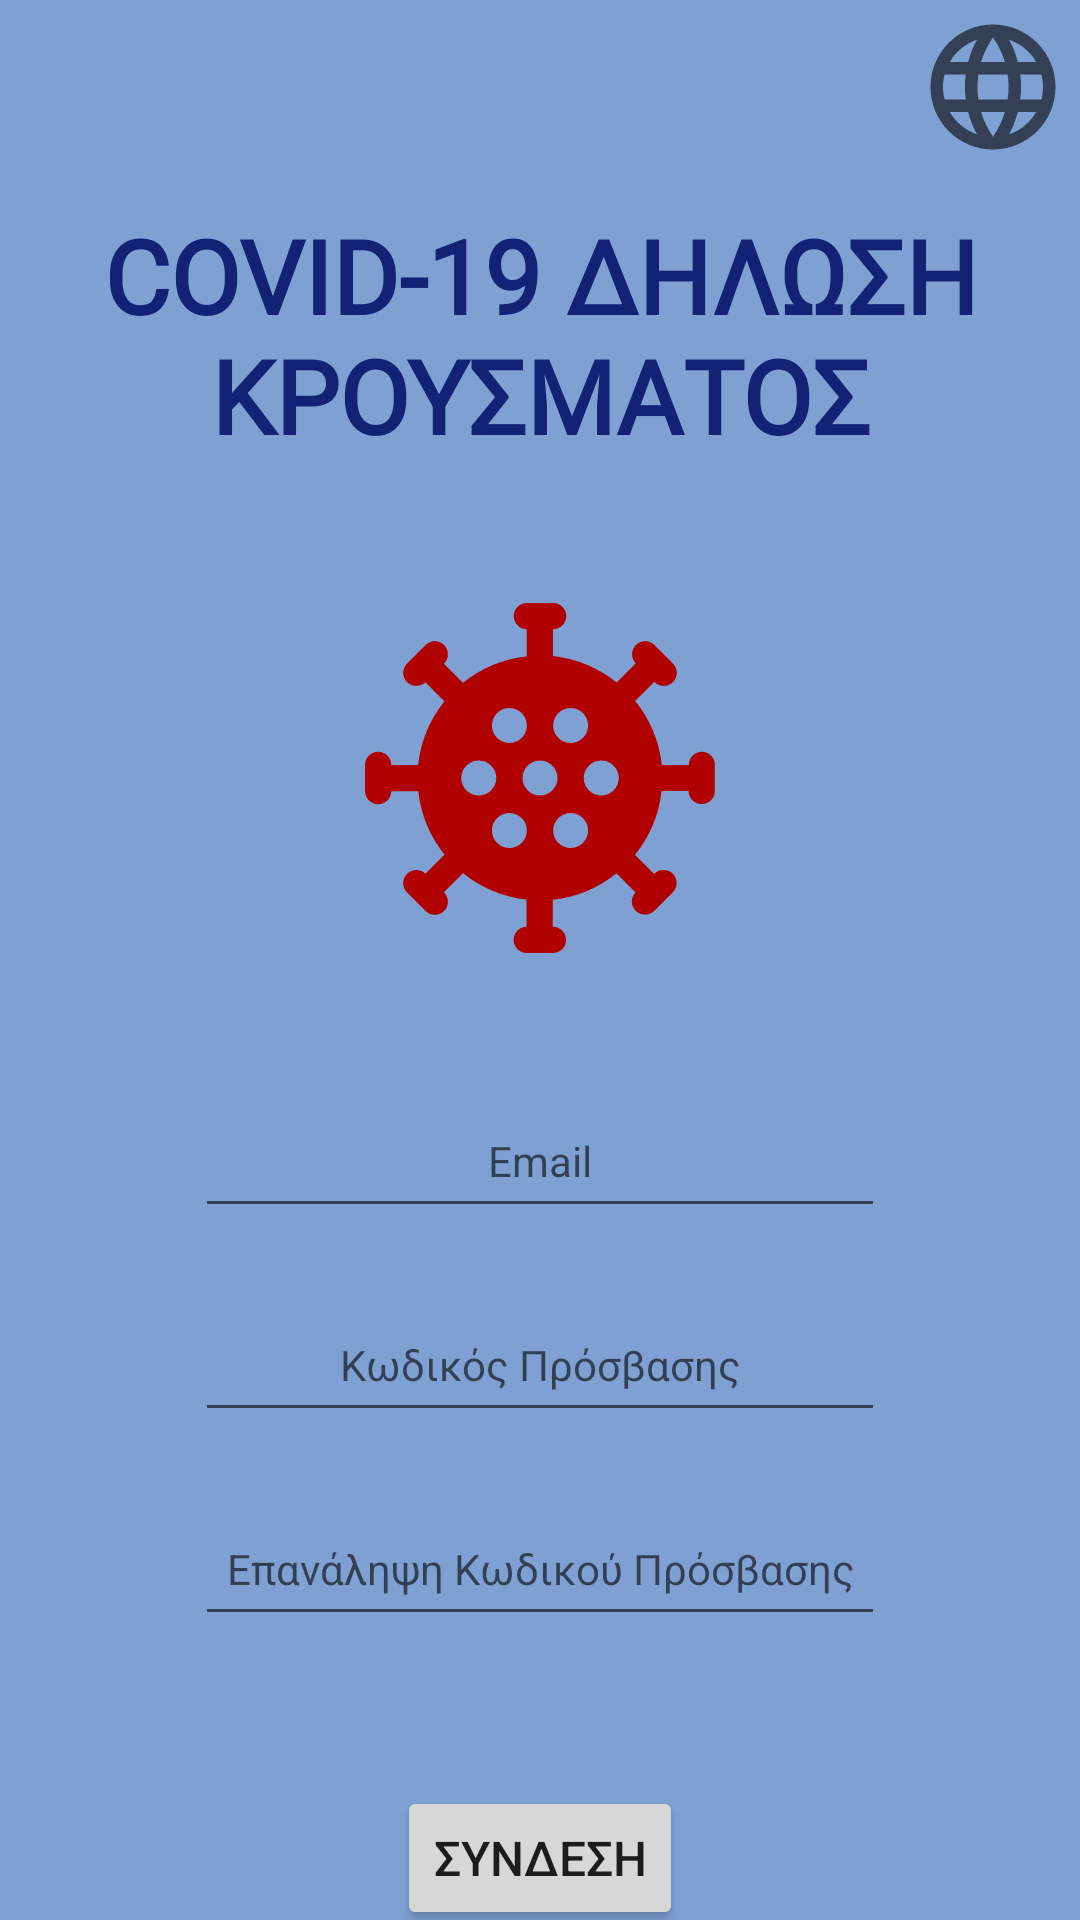

Locate icon controls on the screen. Image size 1080 × 1920, boxes as {"x1": x1, "y1": y1, "x2": x2, "y2": y2}.
coronavirus: {"x1": 365, "y1": 603, "x2": 715, "y2": 953}
language: {"x1": 930, "y1": 24, "x2": 1056, "y2": 150}
